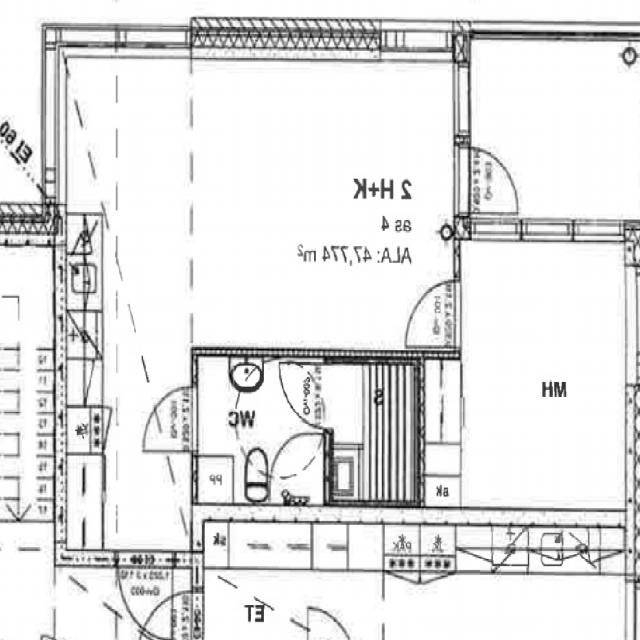door: (118, 552, 173, 640), (455, 152, 519, 216), (405, 281, 461, 347), (277, 365, 333, 428), (145, 386, 197, 450)
